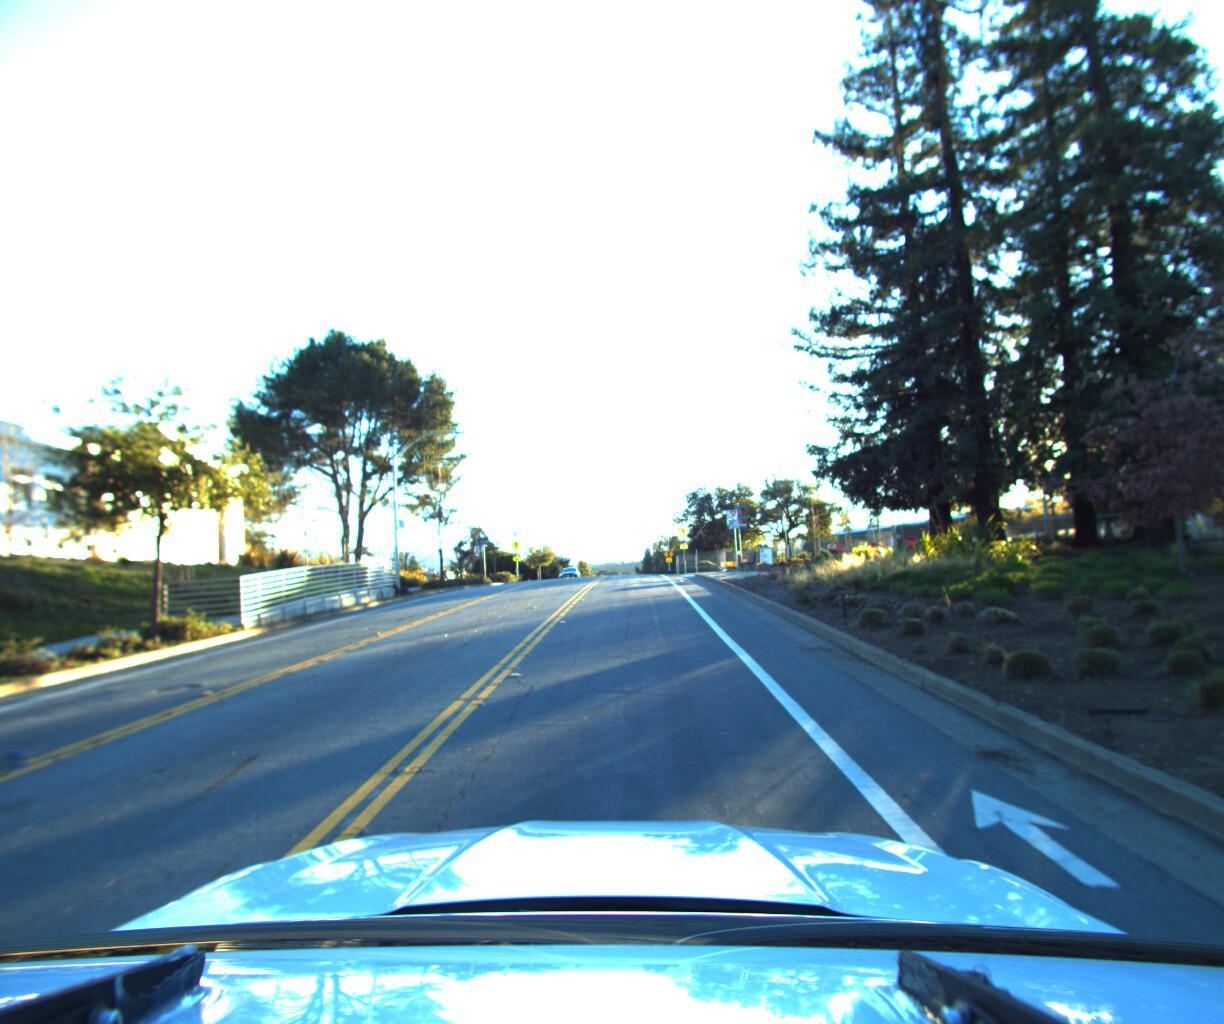car: (557, 564, 582, 582)
